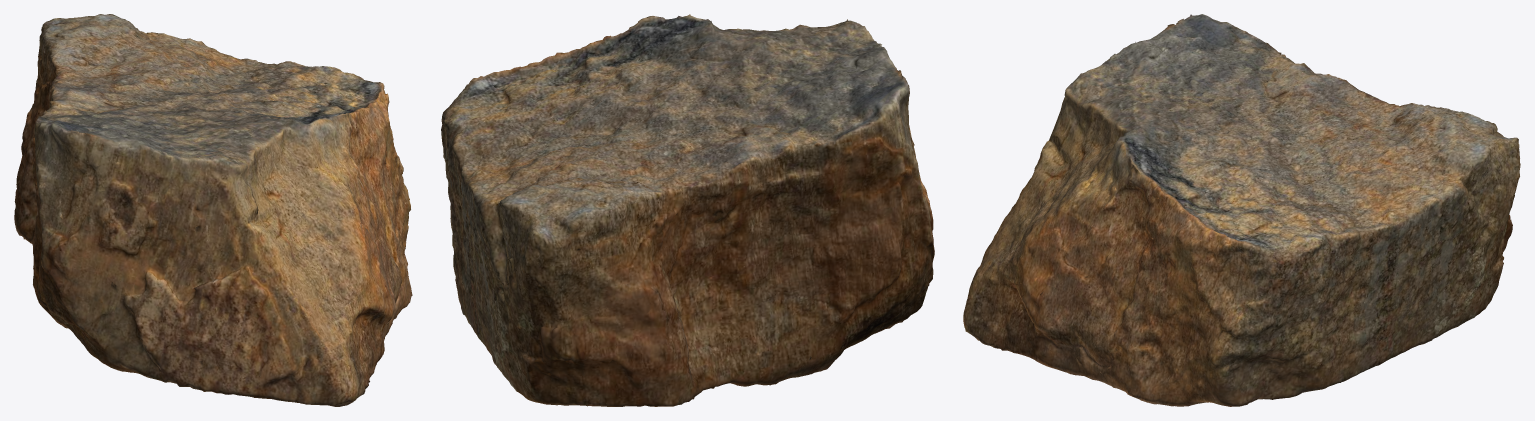
File: namaqualand-boulder.glb
3 views of the same model, side by side, from view 1: azimuth 30°, elevation 25°; view 2: azimuth 150°, elevation 25°; view 3: azimuth 270°, elevation 25° (orthographic). The views are drawn at different scales.
Parts seen in each view (by area): view 1: boulder_03_LOD0; view 2: boulder_03_LOD0; view 3: boulder_03_LOD0.
Boxes of the visible parts, x1,y1,x2,y2 form: boulder_03_LOD0: [14, 14, 412, 406]; boulder_03_LOD0: [441, 14, 934, 406]; boulder_03_LOD0: [963, 14, 1520, 406].
Bounding box in the file's own units: 2.41 × 1.47 × 3.07.
Materials: 1 (1 with a texture image).
